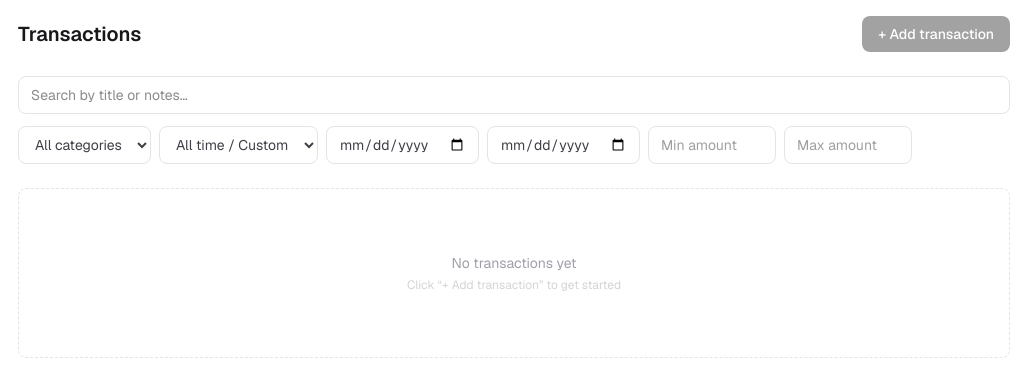
Scenario: Empty states › TransactionsPage › shows "No results for this search" when search is active but list is empty
This screenshot has width=1027, height=375.
Type "coffee" into the field with placeholder "Search by title or notes…". click: (514, 95)
box: 18,76 -> 1010,114
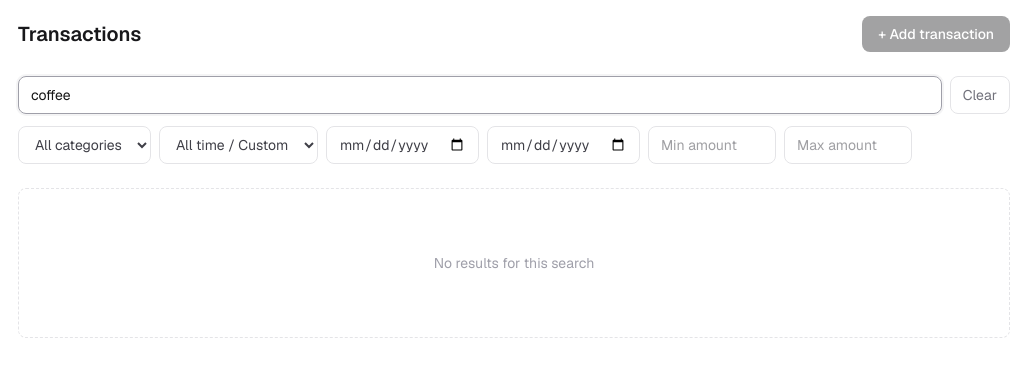
Expected: the text "No results for this search" is shown, 434,254 -> 594,272
